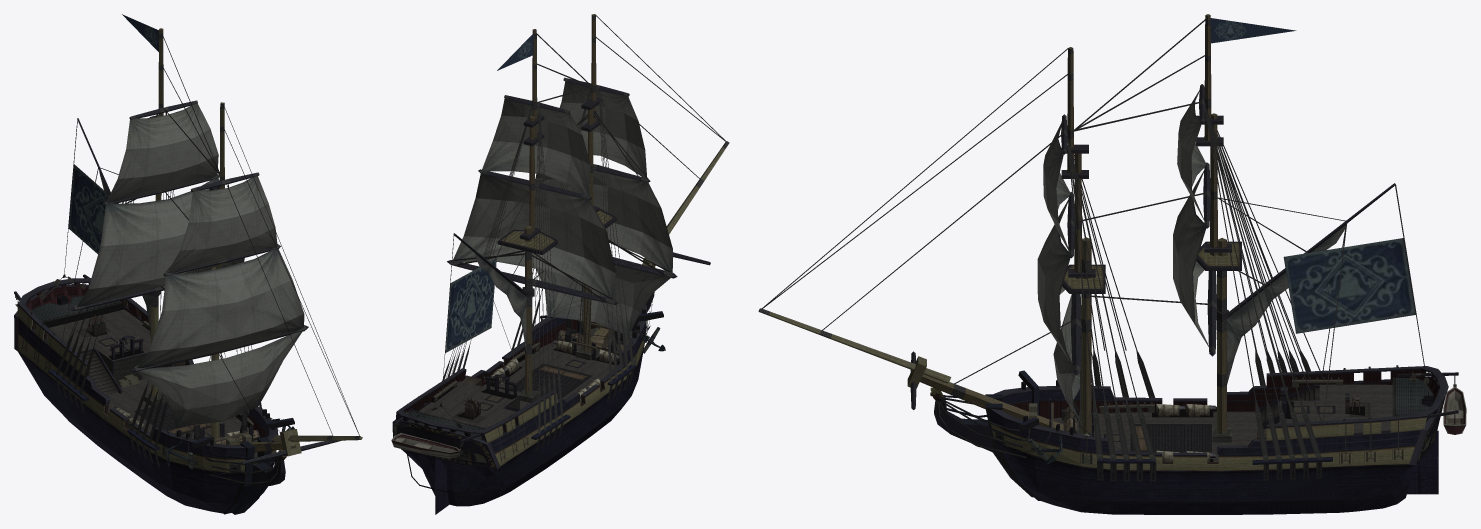
3 renders of one model, left to right at view 1: azimuth 30°, elevation 25°; view 2: azimuth 150°, elevation 25°; view 3: azimuth 270°, elevation 25°, orthographic. The views are drawn at different scales.
Visible parts, largest first — view 1: IX0Q4TC46AEIDWSL9HW0S2EIH; view 2: IX0Q4TC46AEIDWSL9HW0S2EIH; view 3: IX0Q4TC46AEIDWSL9HW0S2EIH.
Part boxes in pixels (x1,y1,x2,y2): IX0Q4TC46AEIDWSL9HW0S2EIH: [14, 14, 362, 514]; IX0Q4TC46AEIDWSL9HW0S2EIH: [391, 14, 729, 514]; IX0Q4TC46AEIDWSL9HW0S2EIH: [758, 14, 1466, 514].
Bounding box in the file's own units: 81.86 × 187 × 250.
Materials: 14 (14 with a texture image).
